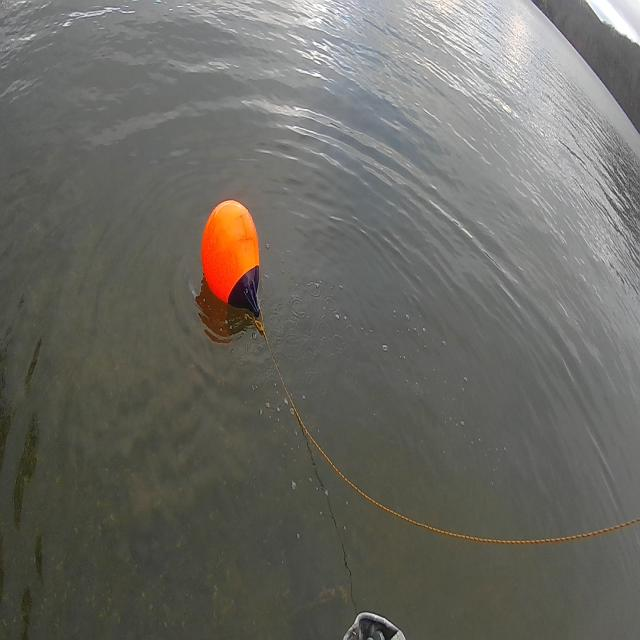Buoy: (203, 194, 269, 322)
